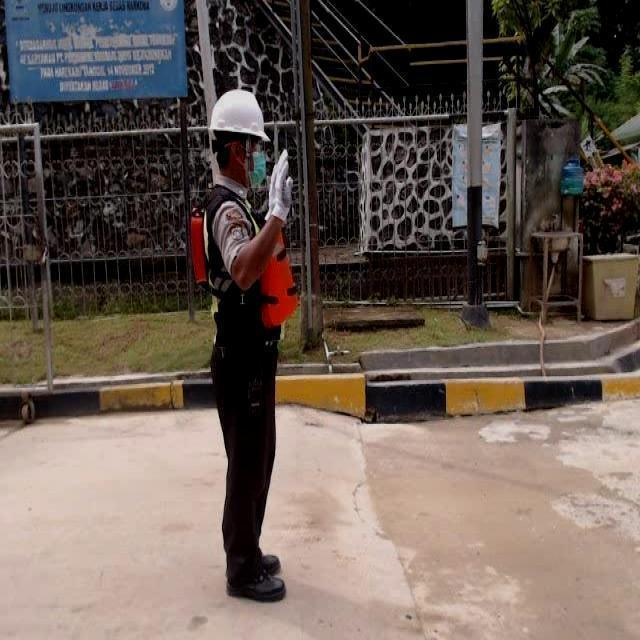vest: (189, 186, 300, 345)
